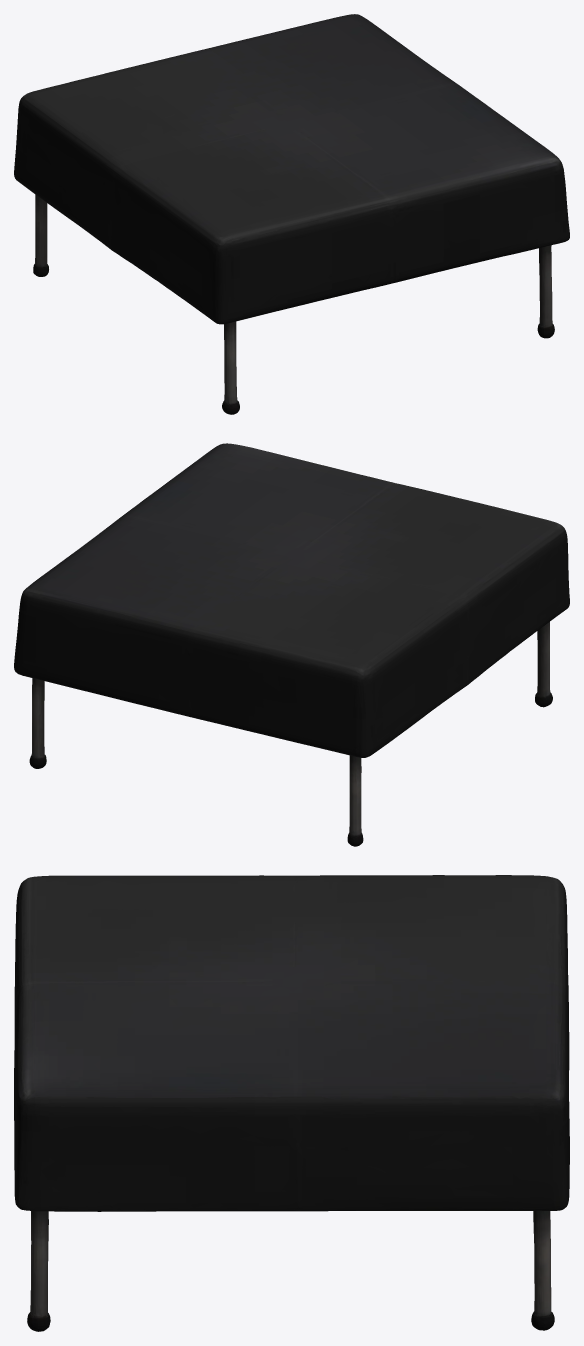
File: b1Seat.glb
3 views of the same model, one above another, from view 1: azimuth 30°, elevation 25°; view 2: azimuth 150°, elevation 25°; view 3: azimuth 270°, elevation 25° (orthographic). The views are drawn at different scales.
Visible parts, largest first — view 1: geometry_0; view 2: geometry_0; view 3: geometry_0.
Part boxes in pixels (box(x1,y1,x2,y2)): geometry_0: box(14, 14, 569, 414); geometry_0: box(14, 443, 569, 846); geometry_0: box(14, 875, 569, 1331).
Bounding box in the file's own units: 0.9747 × 0.4781 × 0.9908.
Materials: 1 (1 with a texture image).
